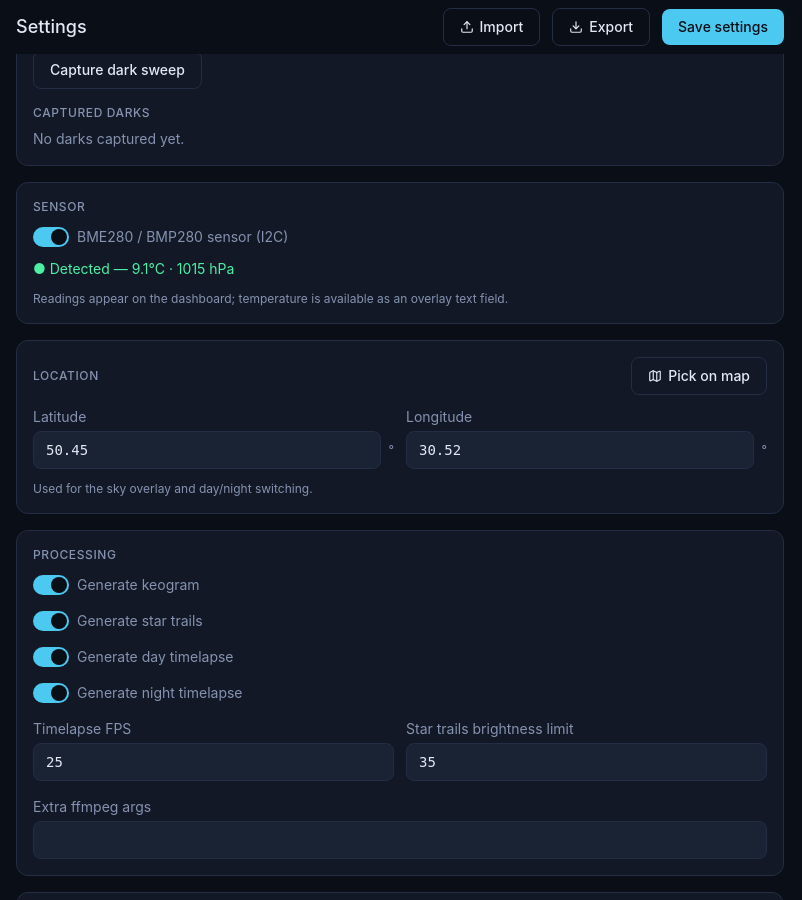
Scenario: SettingsPage › saves edited values through the api
This screenshot has width=802, height=900.
(page scrolled)
Replace the text in the number field labelled "Latitude °" with "48.85". click: (207, 450)
box: [33,431,380,469]
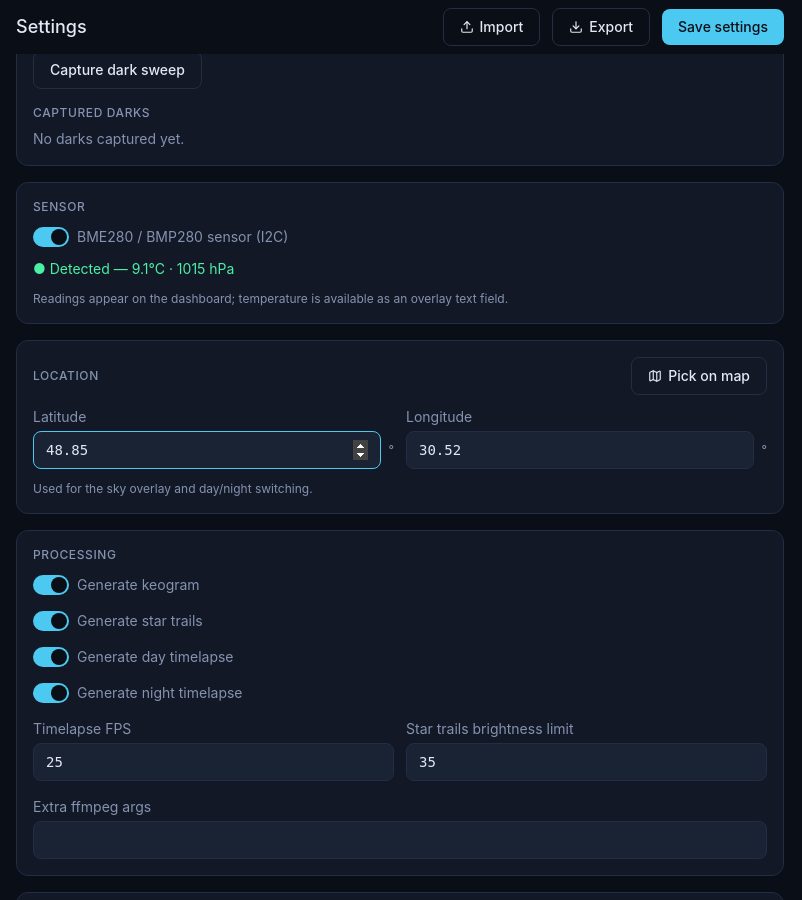
Click the button "Save settings". click: (723, 27)
box: [662,9,784,45]
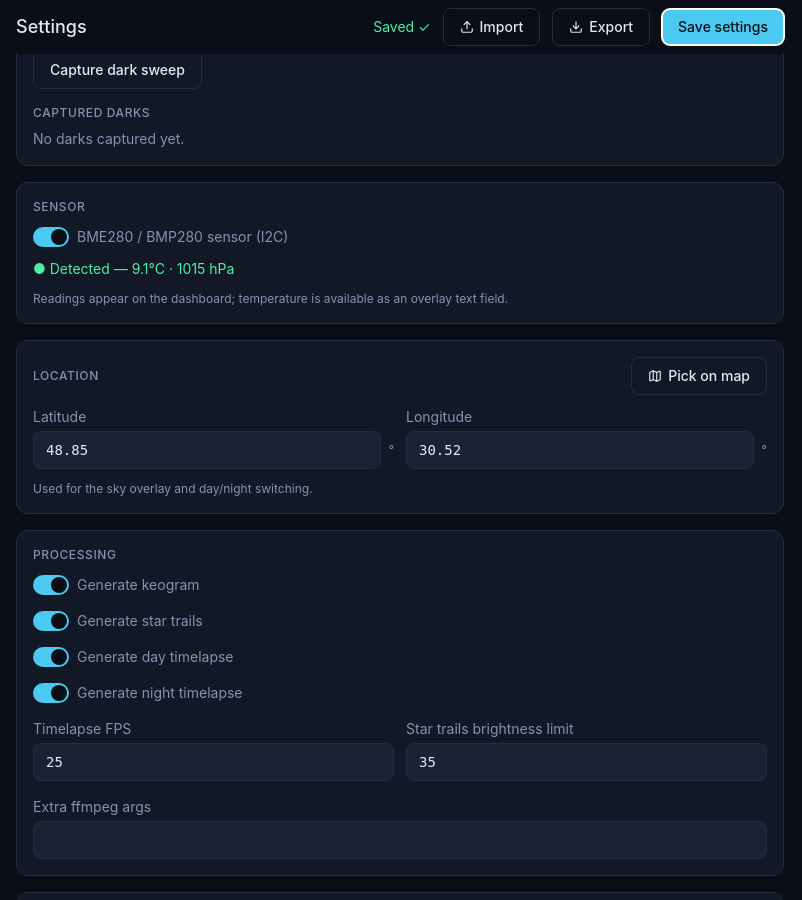
expect the text "Saved ✓" is shown: met, box [373,17,430,37]
